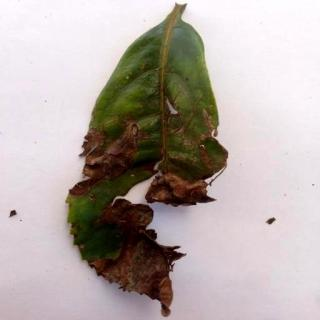Algal Leaf: (65, 5, 228, 318)
